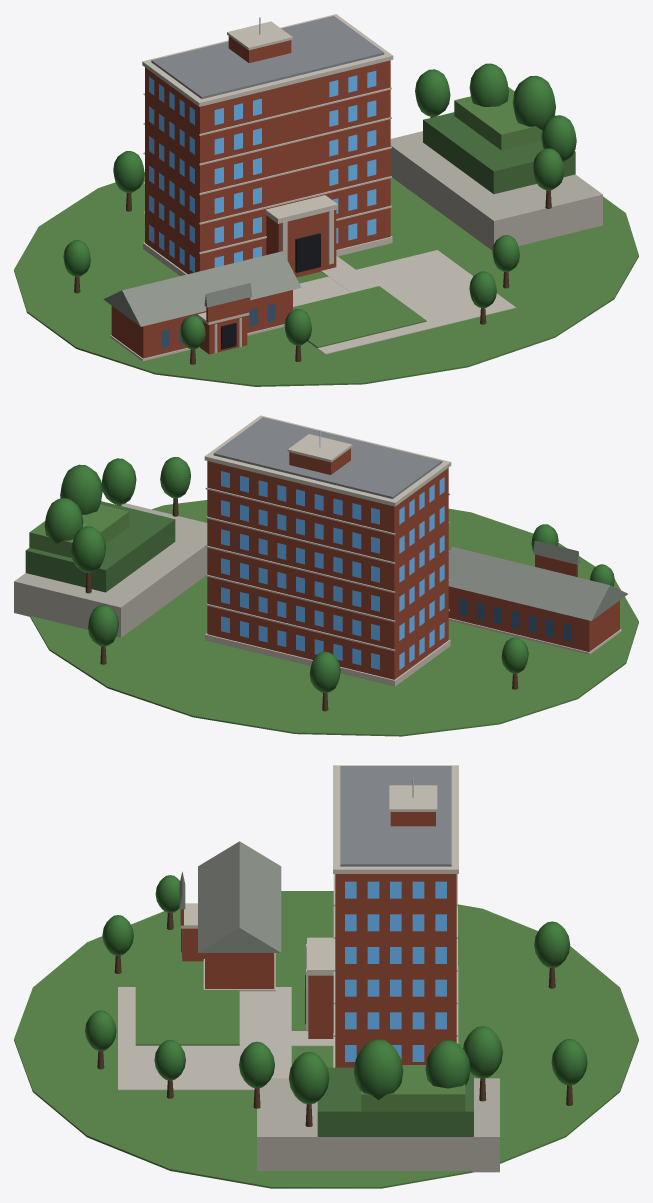
File: univ-of-seoul.glb
3 renders of one model, top to bottom at view 1: azimuth 30°, elevation 25°; view 2: azimuth 150°, elevation 25°; view 3: azimuth 270°, elevation 25°, orthographic. The views are drawn at different scales.
Bounding box in the file's own units: 80.75 × 31.46 × 72.
